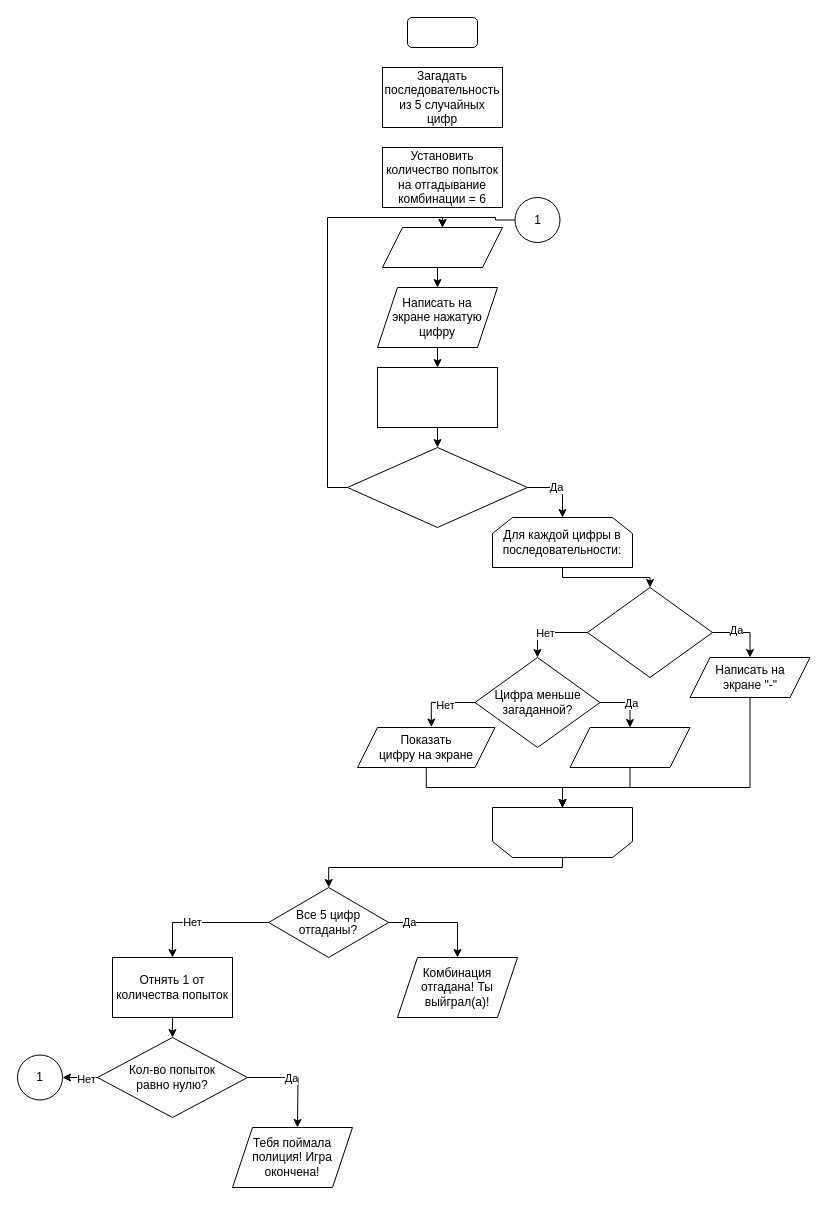
Some shapes in this 828 by 1205 pixel diagram are drawn without their labels. Each missing label, with the centre of its shape:
В последовательности для отгадывания 5 цифр?: pixel 437 487
Добавить нажатую цифру в последовательность отгадывания: pixel 437 397
Конец цикла: pixel 562 832
Написать на экране "+": pixel 629 747
Начало: pixel 442 32
Ожидание нажатия кнопки: pixel 442 247
Цифра больше загаданной?: pixel 649 632
